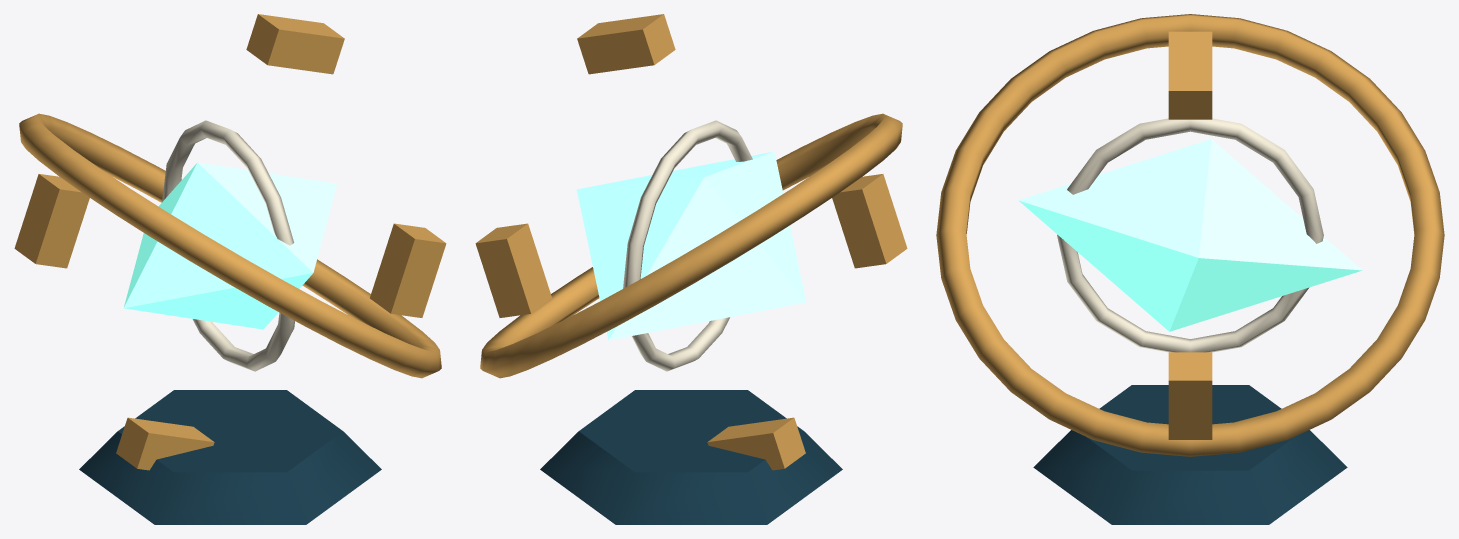
The model's file is relic-10.glb.
3 views of the same model, side by side, from view 1: azimuth 30°, elevation 25°; view 2: azimuth 150°, elevation 25°; view 3: azimuth 270°, elevation 25° (orthographic). The views are drawn at different scales.
Visible parts, largest first — view 1: aged-brass-merged, deep-basalt-merged, aether-glass-merged, chalk-sail-merged; view 2: aged-brass-merged, deep-basalt-merged, aether-glass-merged, chalk-sail-merged; view 3: aged-brass-merged, aether-glass-merged, deep-basalt-merged, chalk-sail-merged.
Boxes of the visible parts, x1,y1,x2,y2 form: aged-brass-merged: (14, 14, 446, 470); deep-basalt-merged: (79, 390, 381, 524); aether-glass-merged: (124, 162, 337, 329); chalk-sail-merged: (162, 120, 294, 371); aged-brass-merged: (475, 14, 907, 470); deep-basalt-merged: (540, 390, 842, 524); aether-glass-merged: (576, 151, 806, 340); chalk-sail-merged: (623, 120, 752, 371); aged-brass-merged: (936, 14, 1444, 456); aether-glass-merged: (1018, 139, 1362, 331); deep-basalt-merged: (1033, 385, 1347, 524); chalk-sail-merged: (1057, 118, 1323, 352).
Bounding box in the file's own units: 1.35 × 1.37 × 1.39.
